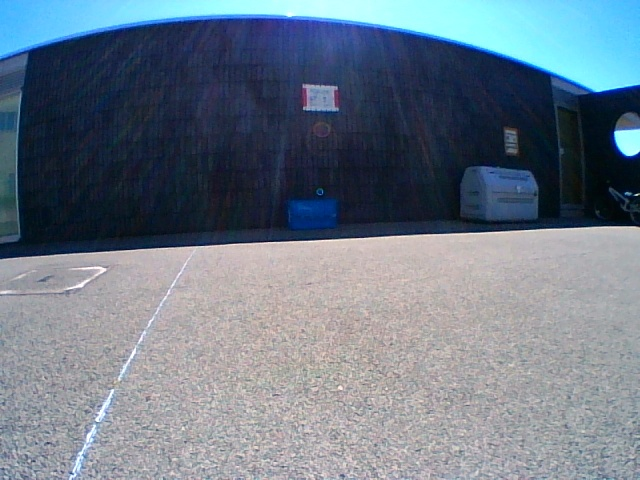blue_box: (289, 199, 334, 228)
